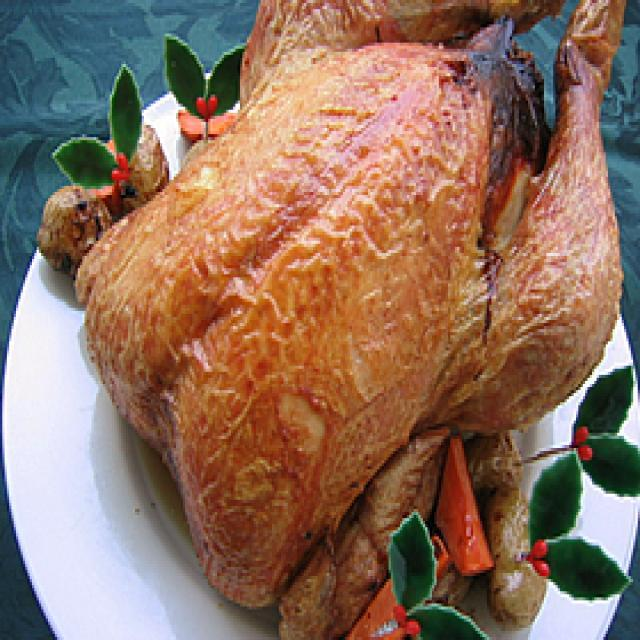Chicken roast: (110, 9, 620, 613)
